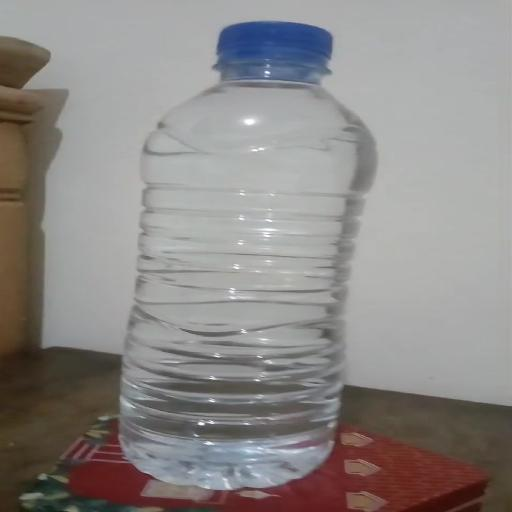bouteille non conformite: (127, 18, 364, 498)
